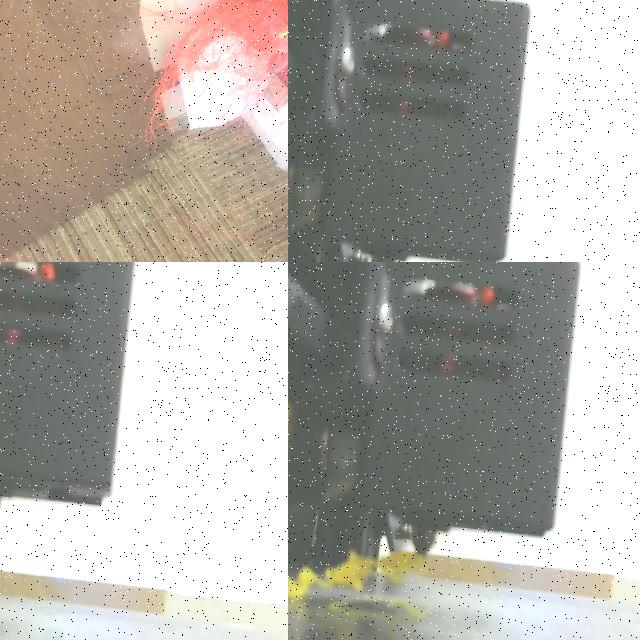spaghetti: (125, 0, 288, 200), (288, 550, 378, 598), (378, 552, 421, 580)
